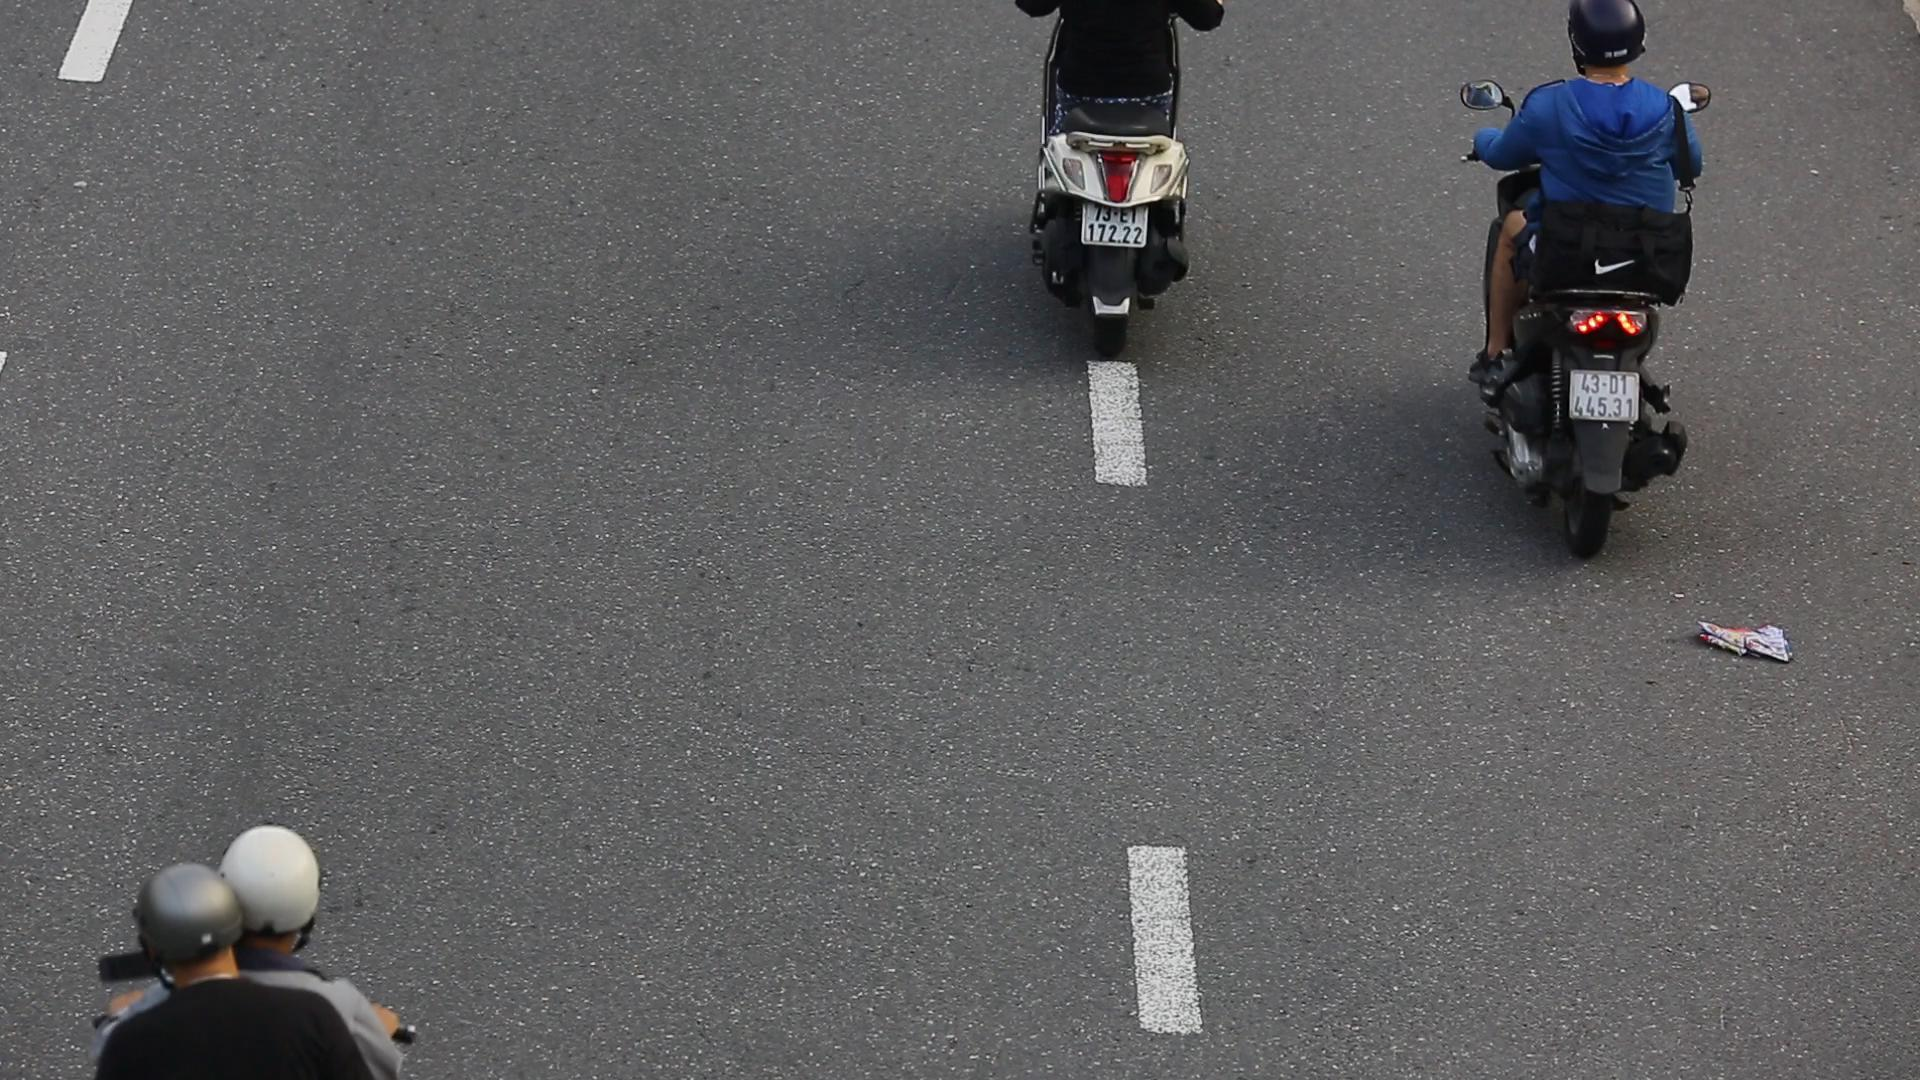motobike: (1458, 0, 1725, 584)
